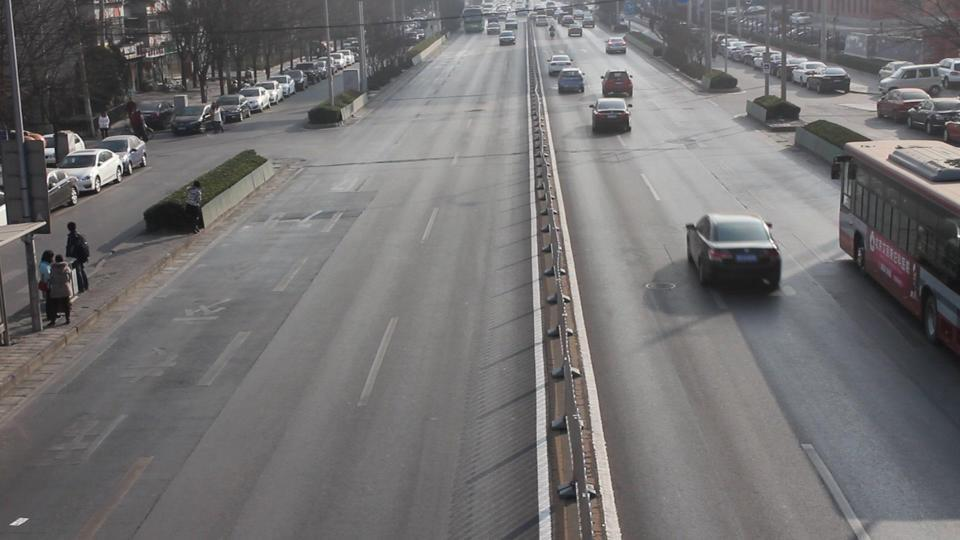car: (684, 212, 784, 291), (1, 150, 79, 216), (59, 148, 122, 194), (878, 63, 954, 97), (907, 96, 960, 134), (874, 88, 932, 122), (98, 135, 147, 174), (170, 104, 223, 136), (40, 131, 87, 167), (590, 95, 633, 134), (129, 99, 176, 133), (800, 64, 851, 95), (46, 170, 79, 212), (210, 94, 252, 123), (600, 69, 634, 100), (238, 85, 268, 114), (557, 68, 585, 95), (255, 81, 281, 104), (546, 53, 572, 75), (284, 70, 308, 93), (272, 75, 296, 98), (944, 121, 960, 145), (606, 36, 627, 54), (499, 29, 516, 46), (567, 24, 584, 38)
